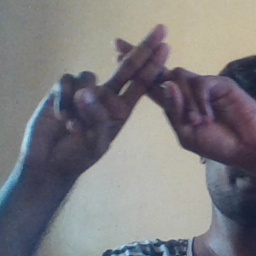F: (81, 20, 203, 135)
